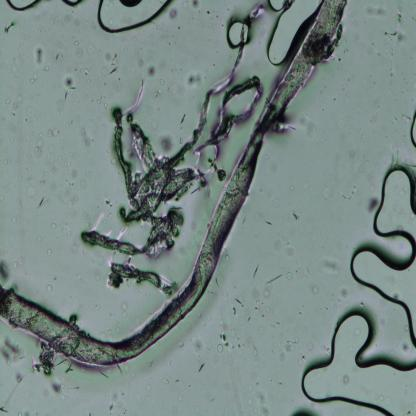Air bubble: (298, 308, 416, 416), (348, 243, 416, 374), (266, 1, 323, 68), (372, 162, 416, 245), (92, 1, 171, 32), (224, 17, 252, 50), (5, 0, 45, 13), (408, 110, 416, 150), (61, 0, 85, 6)
Background material: (1, 368, 24, 416), (0, 337, 26, 367), (34, 346, 57, 376), (317, 256, 340, 276), (190, 329, 206, 354), (282, 337, 299, 360), (53, 8, 74, 26), (184, 72, 204, 90), (338, 184, 358, 202), (105, 49, 118, 76), (219, 330, 236, 350), (363, 5, 388, 18), (77, 123, 91, 146), (292, 403, 316, 416), (264, 272, 284, 287), (0, 260, 12, 285), (61, 72, 76, 92), (366, 194, 379, 216), (159, 134, 173, 154), (246, 343, 259, 364), (145, 61, 160, 79), (259, 392, 270, 416), (393, 27, 407, 45), (26, 178, 38, 198), (252, 281, 262, 304), (34, 130, 46, 148), (94, 96, 109, 110), (400, 335, 411, 354), (249, 262, 260, 281), (391, 184, 407, 197), (35, 46, 45, 66), (50, 382, 64, 396), (36, 194, 49, 209), (283, 244, 295, 260), (13, 256, 25, 272), (52, 98, 64, 114), (178, 108, 188, 126), (3, 21, 16, 34), (204, 389, 216, 403), (119, 300, 128, 318), (191, 0, 204, 12), (49, 125, 60, 139), (12, 52, 23, 66), (261, 300, 272, 314), (141, 380, 153, 392), (168, 404, 180, 416), (106, 399, 116, 413), (169, 7, 179, 21), (304, 339, 314, 353), (274, 237, 283, 252), (72, 237, 81, 252), (235, 294, 244, 309), (269, 195, 280, 207), (217, 170, 228, 181), (15, 408, 30, 416), (109, 388, 118, 401), (214, 275, 222, 289), (164, 357, 174, 368), (309, 285, 319, 296), (290, 209, 300, 220), (158, 77, 168, 88), (33, 147, 43, 158), (262, 216, 272, 227), (99, 65, 107, 78), (340, 288, 350, 298), (285, 270, 294, 281), (161, 375, 170, 386), (146, 357, 155, 368), (256, 323, 264, 335), (94, 270, 102, 282), (154, 88, 162, 100), (6, 64, 16, 73), (98, 330, 108, 339), (87, 202, 97, 211), (108, 156, 117, 166), (342, 375, 351, 385), (216, 343, 224, 354), (48, 222, 59, 230), (198, 361, 206, 372), (263, 289, 271, 300), (15, 94, 24, 103), (286, 182, 294, 192), (106, 312, 114, 322), (177, 338, 185, 348), (245, 395, 253, 405), (222, 290, 230, 300), (96, 255, 104, 265), (113, 325, 123, 333), (89, 42, 97, 52), (298, 266, 304, 278), (79, 180, 88, 188), (12, 104, 18, 116), (45, 285, 54, 293), (42, 64, 51, 72), (221, 409, 231, 416), (36, 234, 43, 244), (59, 139, 65, 150), (72, 38, 80, 46), (46, 249, 54, 257), (276, 379, 284, 387), (175, 394, 183, 402), (106, 200, 115, 207), (200, 320, 209, 327), (300, 352, 306, 362), (72, 170, 78, 180), (62, 222, 68, 232), (76, 49, 83, 57), (84, 221, 92, 228), (236, 341, 243, 349), (94, 304, 101, 312), (42, 14, 49, 22), (63, 92, 70, 100), (0, 192, 5, 203), (84, 67, 90, 76), (67, 202, 74, 209), (66, 110, 72, 118), (206, 7, 212, 15), (19, 148, 24, 157), (13, 215, 18, 224), (28, 53, 34, 60), (32, 73, 38, 80), (4, 158, 10, 165), (82, 248, 87, 256), (233, 307, 237, 317), (66, 230, 71, 238), (145, 290, 150, 298), (304, 267, 308, 277), (74, 96, 80, 102), (4, 98, 10, 104), (50, 146, 56, 152), (124, 46, 129, 53), (247, 315, 251, 323), (98, 76, 102, 84), (56, 53, 60, 61), (254, 305, 259, 311), (82, 93, 88, 98), (186, 383, 192, 388), (83, 212, 88, 218), (254, 409, 259, 415), (34, 113, 39, 119), (15, 43, 21, 48), (30, 78, 35, 84), (198, 312, 202, 319), (24, 34, 29, 39), (35, 92, 40, 97), (85, 170, 90, 175), (15, 157, 20, 162), (69, 152, 74, 157), (106, 147, 110, 153), (26, 177, 30, 183), (179, 136, 182, 144), (58, 154, 62, 160), (75, 195, 79, 201), (106, 192, 110, 198), (10, 138, 16, 142), (60, 31, 64, 37), (21, 50, 25, 56), (275, 322, 280, 326), (44, 170, 48, 175), (176, 378, 180, 383), (66, 161, 70, 166), (18, 122, 22, 127), (27, 153, 31, 158), (1, 59, 4, 65), (256, 382, 260, 386), (63, 125, 66, 130), (88, 79, 91, 84), (18, 23, 21, 28)
Cellulose filter fibre: (100, 5, 265, 240), (80, 204, 185, 259), (111, 263, 174, 292)
Microfibre: (0, 1, 347, 370)
